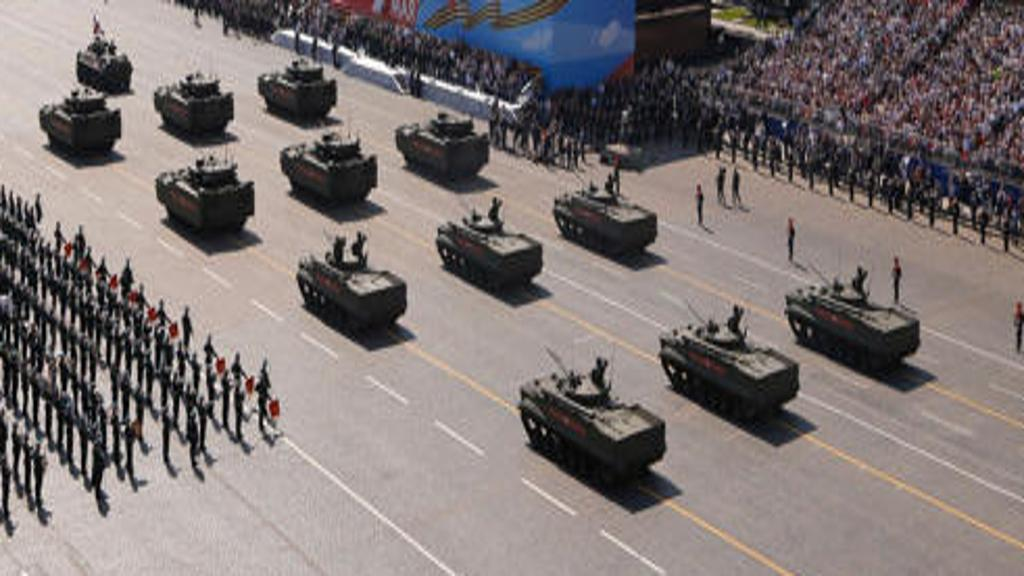APC-IFV: (510, 355, 667, 495), (656, 299, 799, 429), (785, 260, 919, 375), (297, 227, 409, 337), (431, 193, 543, 292), (550, 167, 657, 263), (154, 146, 252, 235), (278, 126, 377, 210), (396, 106, 489, 178), (38, 91, 119, 164), (151, 73, 235, 138), (256, 54, 335, 121), (76, 31, 136, 91)
